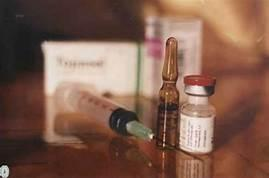Syringe: (180, 72, 221, 156), (154, 33, 180, 149)
